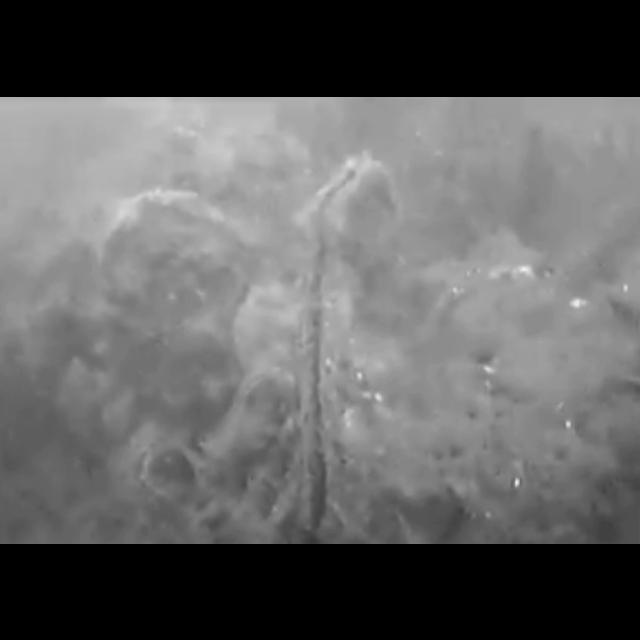Oyster-Closed: (94, 186, 258, 404)
Oyster-Open: (287, 286, 353, 538), (293, 155, 402, 297), (132, 426, 226, 504), (227, 362, 299, 451)
